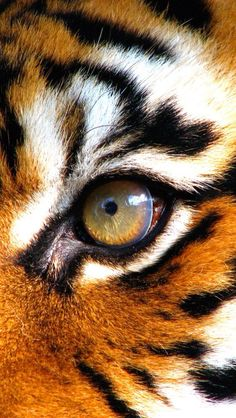Tigrew: (11, 25, 223, 402)
